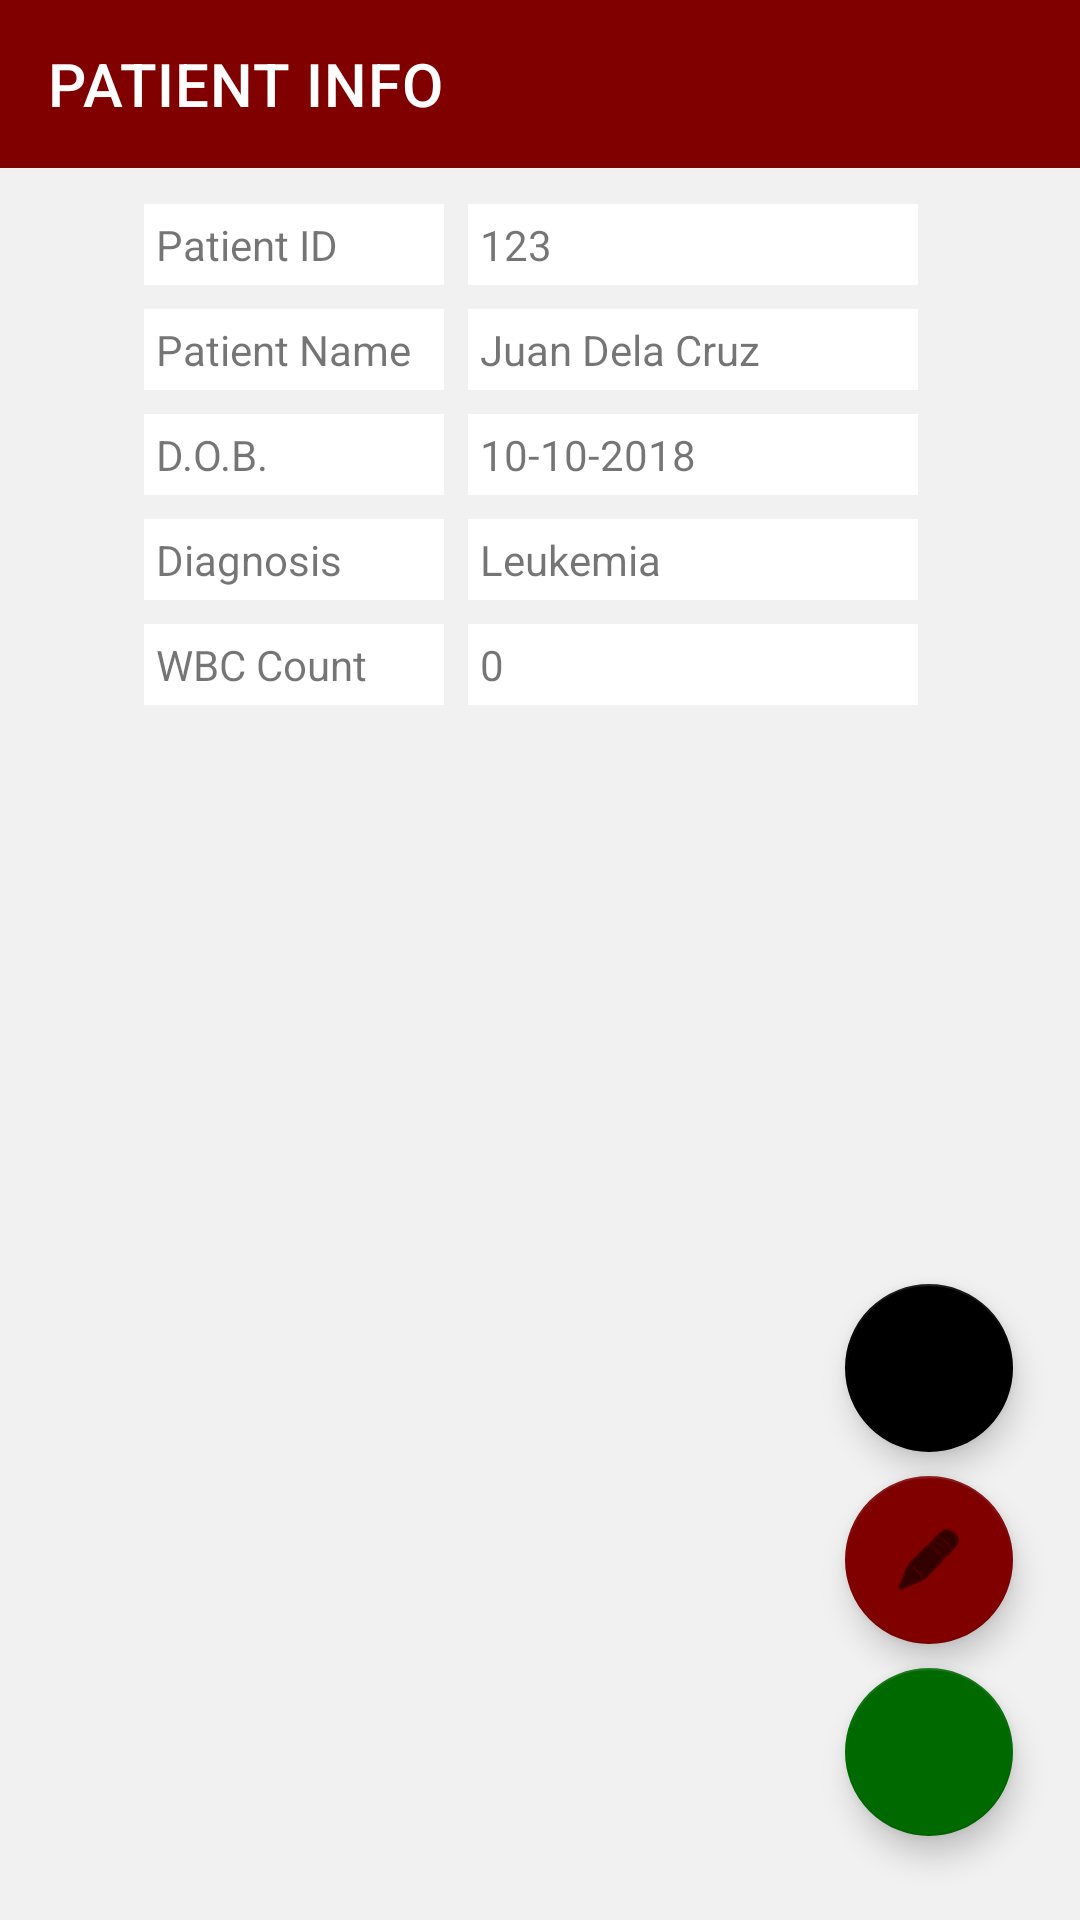

Icons on this 1080 × 1920 Android screen, each with the point to tap as (x=x, y=y):
edit: (x=929, y=1560)
